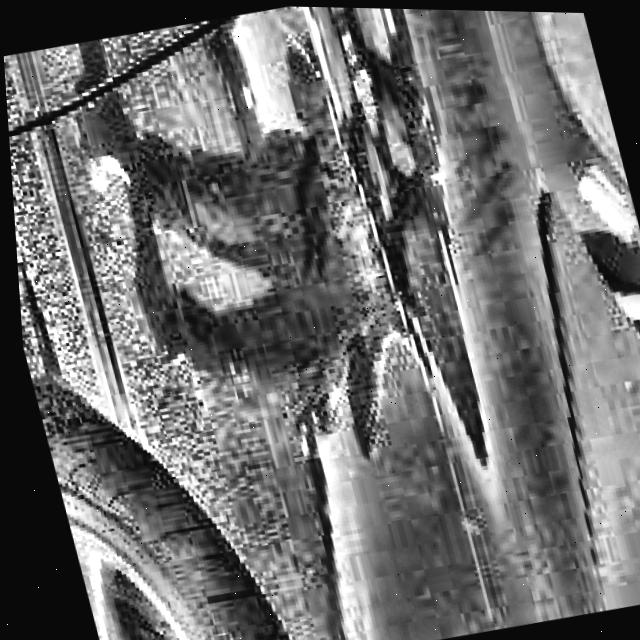door_scratch: (286, 6, 520, 640)
